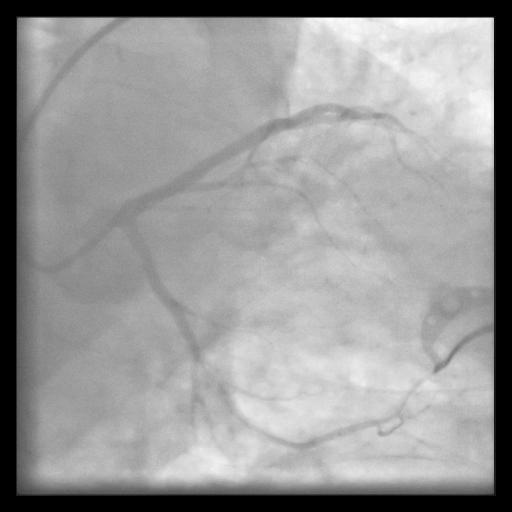Stenosis: (197, 350, 225, 392)
